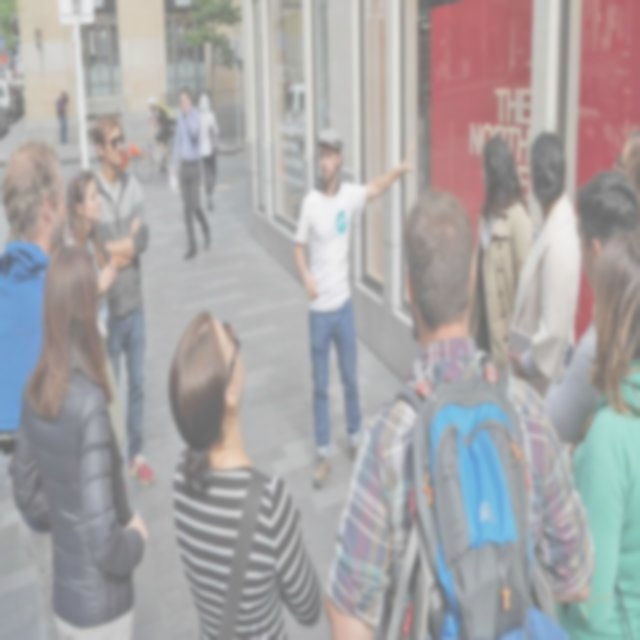pessoa: (323, 188, 597, 640), (11, 239, 150, 639), (166, 309, 324, 639), (295, 125, 417, 488), (0, 138, 71, 640), (540, 168, 640, 452), (91, 111, 156, 488), (541, 220, 639, 448), (502, 129, 583, 401), (62, 167, 126, 458), (467, 134, 534, 374), (169, 84, 212, 261), (197, 92, 221, 212), (610, 127, 640, 215), (143, 95, 173, 173), (55, 90, 69, 146), (86, 23, 108, 55), (174, 24, 193, 52)
